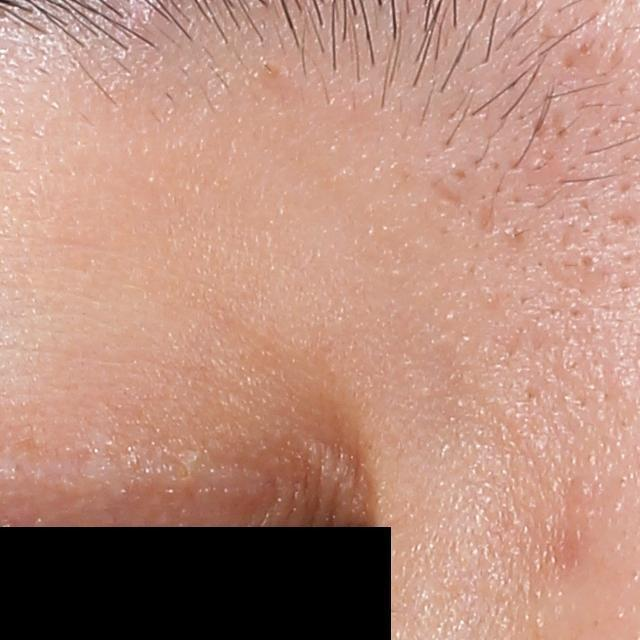atrophic_scar: (428, 176, 471, 209), (475, 194, 499, 245)
comedo: (574, 249, 602, 278), (569, 35, 598, 58)
